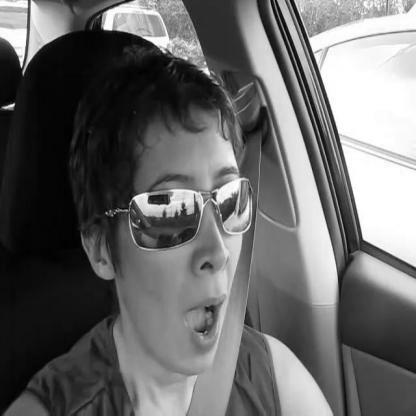seatbelt: (69, 51, 290, 416)
